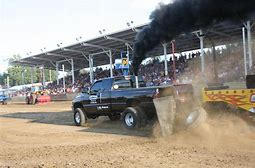smoke: (130, 1, 255, 75)
